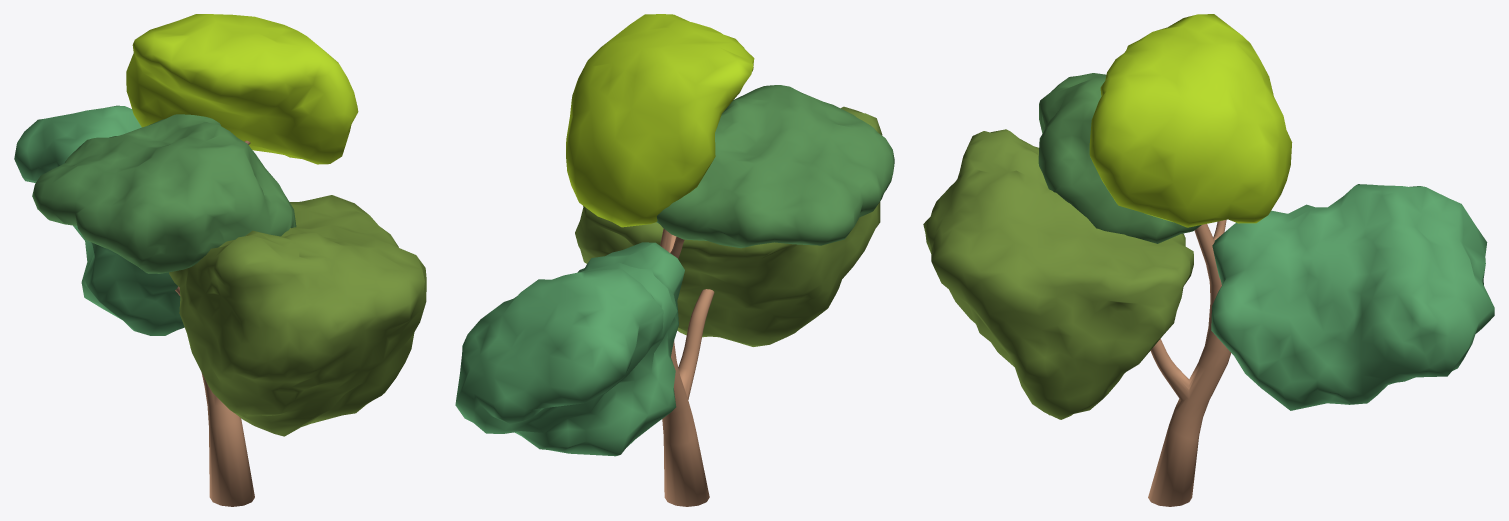
File: Fresno Tree.fbx
The picture shows the model from 3 angles, left to right: view 1: azimuth 30°, elevation 25°; view 2: azimuth 150°, elevation 25°; view 3: azimuth 270°, elevation 25°; orthographic projection. The views are drawn at different scales.
Visible parts, largest first — view 1: rock.003, rock.004, rock.001, rock.002, BarkTree.002; view 2: rock.002, rock.001, rock.004, rock.003, BarkTree.002; view 3: rock.002, rock.003, rock.001, rock.004, BarkTree.002.
Part boxes in pixels (bbox=[...]): rock.003: bbox=[169, 195, 426, 436]; rock.004: bbox=[32, 114, 296, 273]; rock.001: bbox=[126, 14, 358, 164]; rock.002: bbox=[14, 105, 184, 335]; BarkTree.002: bbox=[175, 140, 254, 506]; rock.002: bbox=[455, 242, 684, 456]; rock.001: bbox=[566, 14, 754, 227]; rock.004: bbox=[656, 85, 894, 248]; rock.003: bbox=[575, 106, 882, 346]; BarkTree.002: bbox=[660, 228, 714, 506]; rock.002: bbox=[1211, 184, 1494, 410]; rock.003: bbox=[923, 129, 1193, 419]; rock.001: bbox=[1089, 14, 1292, 227]; rock.004: bbox=[1038, 73, 1201, 243]; BarkTree.002: bbox=[1148, 219, 1231, 506].
Size of the model in its own units: 7.75 by 11.54 by 13.15.
